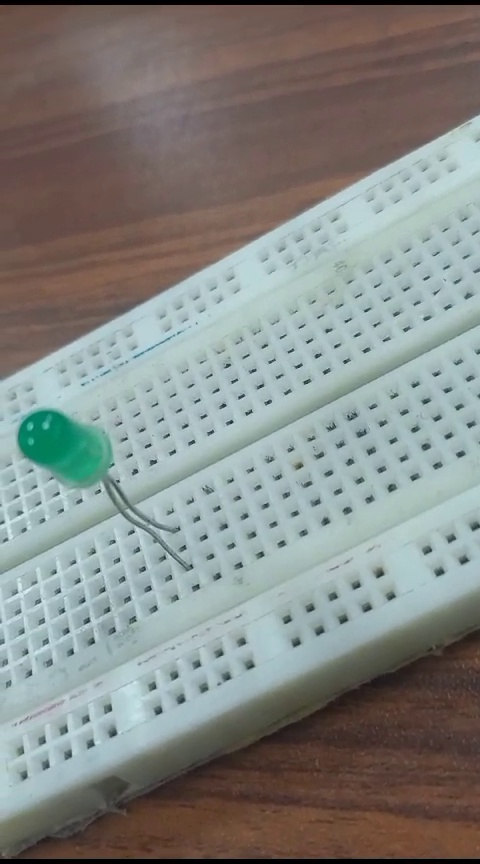LED: (16, 392, 195, 603)
